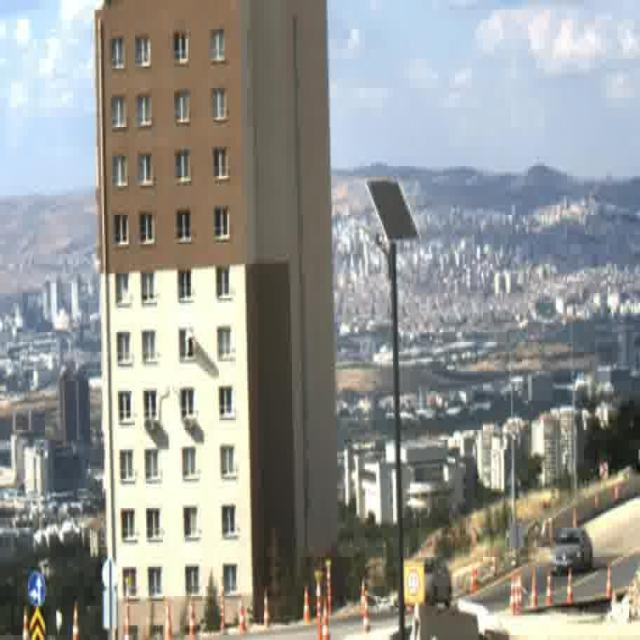Car: (414, 555, 450, 608), (550, 530, 592, 574)
